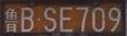B: (21, 7, 34, 32)
